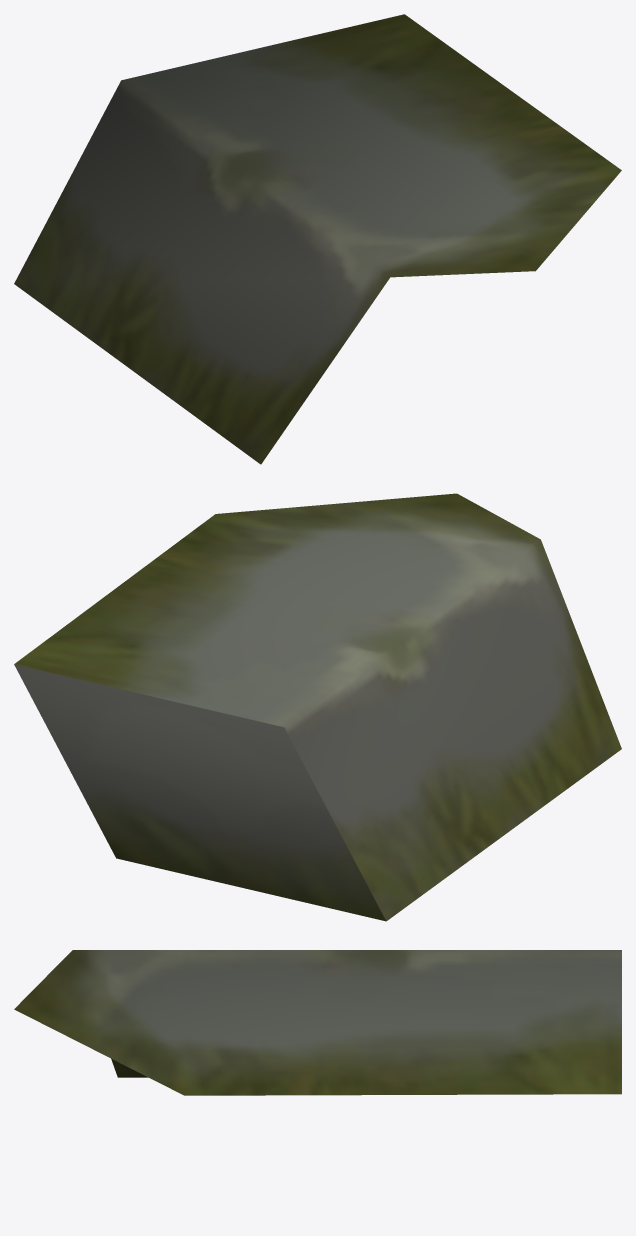
Rendered from yw_shanlin_brokenstonesteps_003.FBX.
3 views of the same model, one above another, from view 1: azimuth 30°, elevation 25°; view 2: azimuth 150°, elevation 25°; view 3: azimuth 270°, elevation 25° (orthographic). The views are drawn at different scales.
Parts seen in each view (by area): view 1: yw_shanlin_brokenstonesteps_003; view 2: yw_shanlin_brokenstonesteps_003; view 3: yw_shanlin_brokenstonesteps_003.
Boxes of the visible parts, left/top/right/bottom form: yw_shanlin_brokenstonesteps_003: left=14, top=14, right=621, bottom=464; yw_shanlin_brokenstonesteps_003: left=14, top=493, right=621, bottom=921; yw_shanlin_brokenstonesteps_003: left=14, top=950, right=621, bottom=1095.
Size of the model in its own units: 93.71 by 123 by 41.05.
